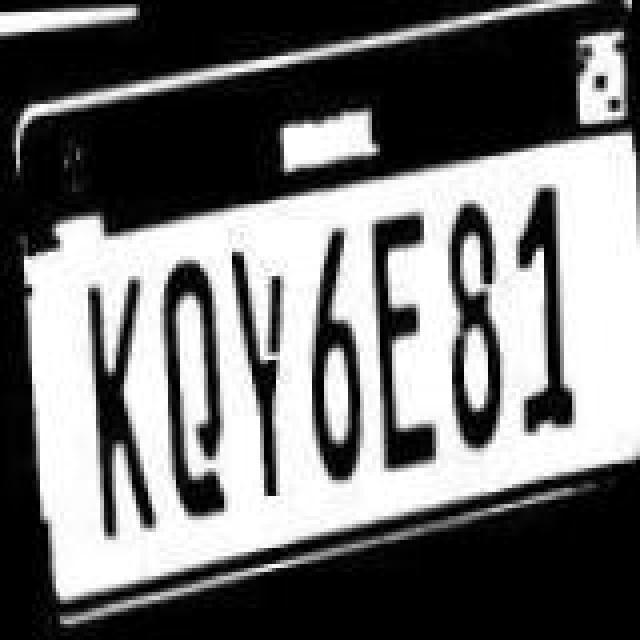1: (508, 178, 580, 442)
6: (302, 226, 366, 486)
8: (436, 192, 508, 456)
E: (366, 214, 438, 478)
K: (84, 262, 160, 538)
Q: (154, 252, 226, 520)
Y: (222, 240, 294, 500)
